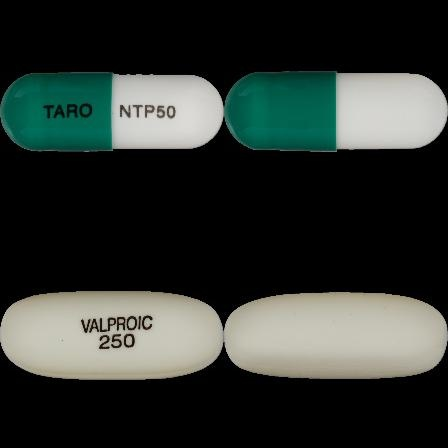58118-4003: (0, 0, 224, 224)
